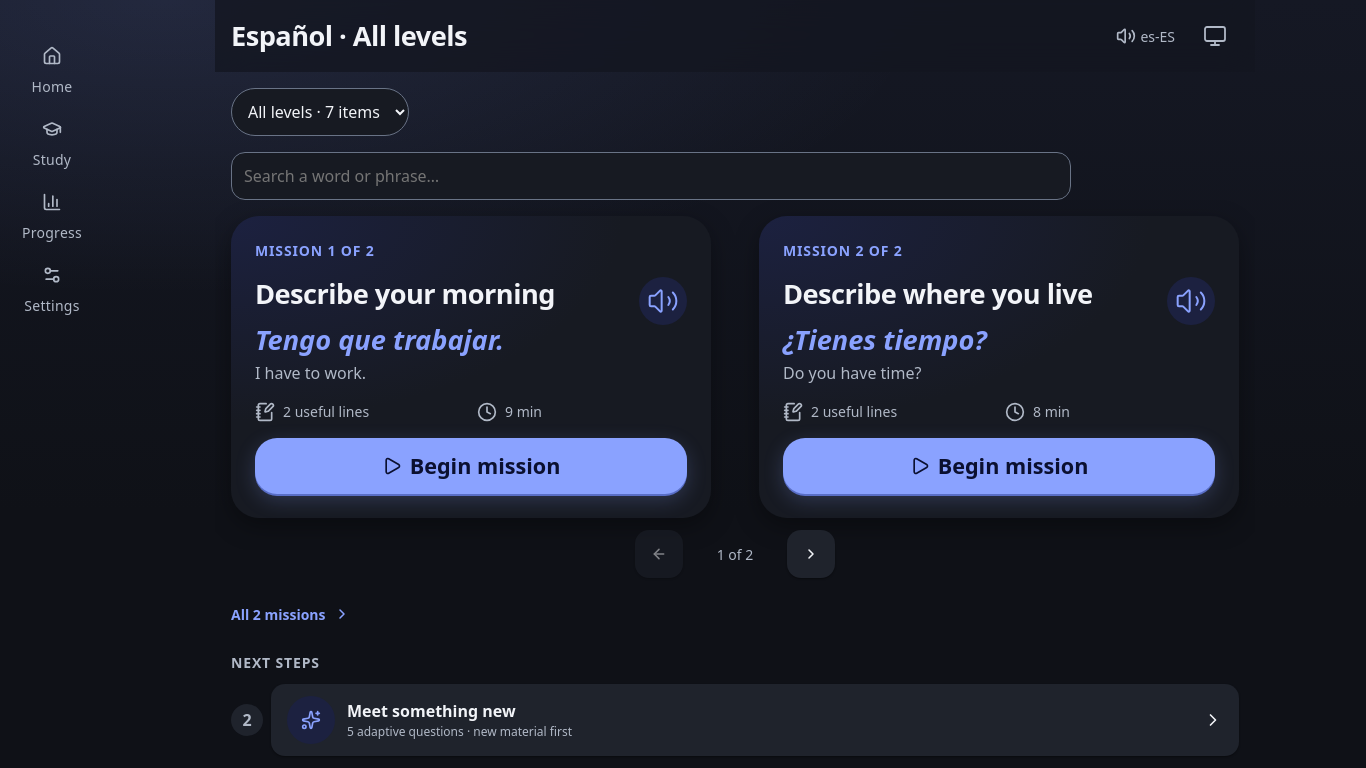
Test: what a lookup answers › searches the reference language too
Type "water" into the search field.
click(651, 176); type("water")  # box top-left (231, 152), bottom-right (1071, 200)
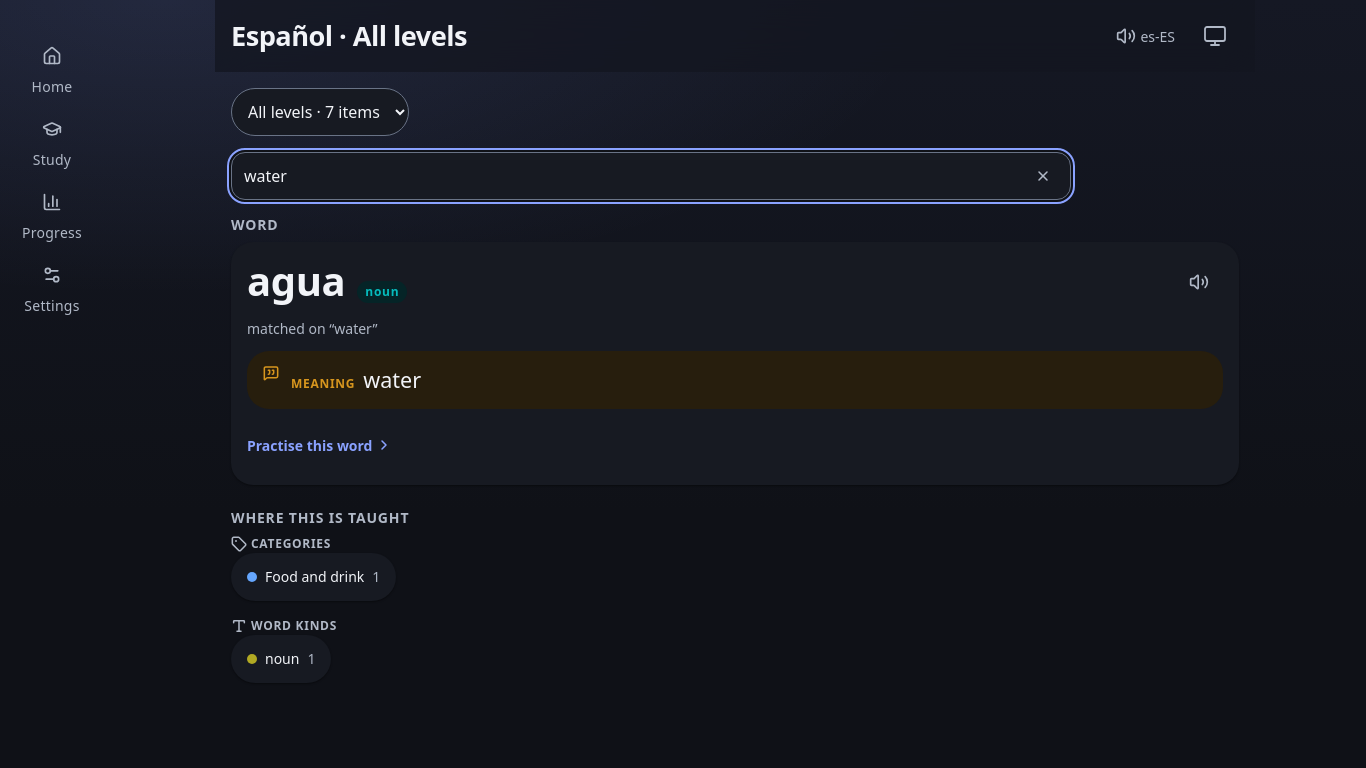
Expected: the heading "agua" is shown, top-left (247, 258), bottom-right (345, 304)
